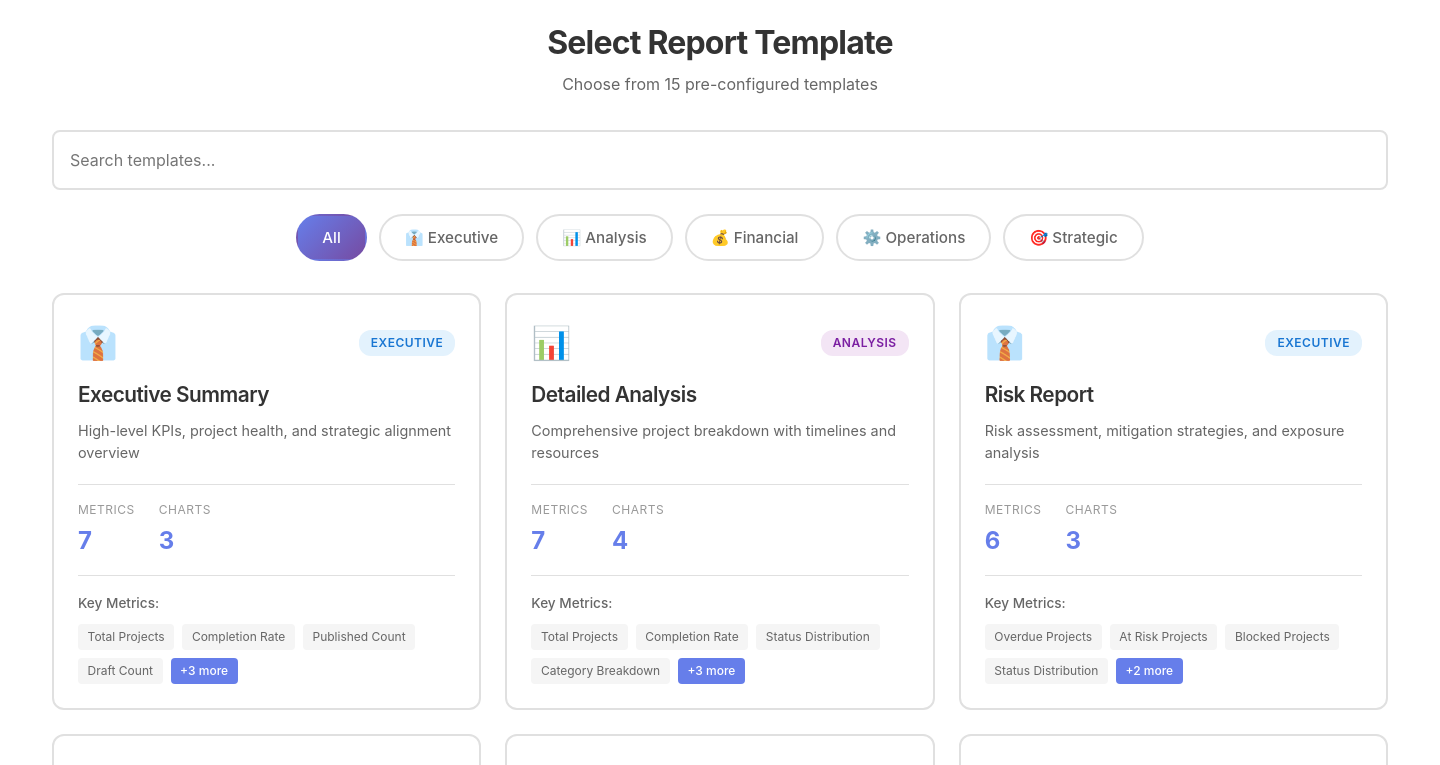
it: TemplateSelector › Category Filtering › should show all templates when All button clicked
Click the button "👔 Executive".
click(451, 238)  # box [379, 214, 524, 261]
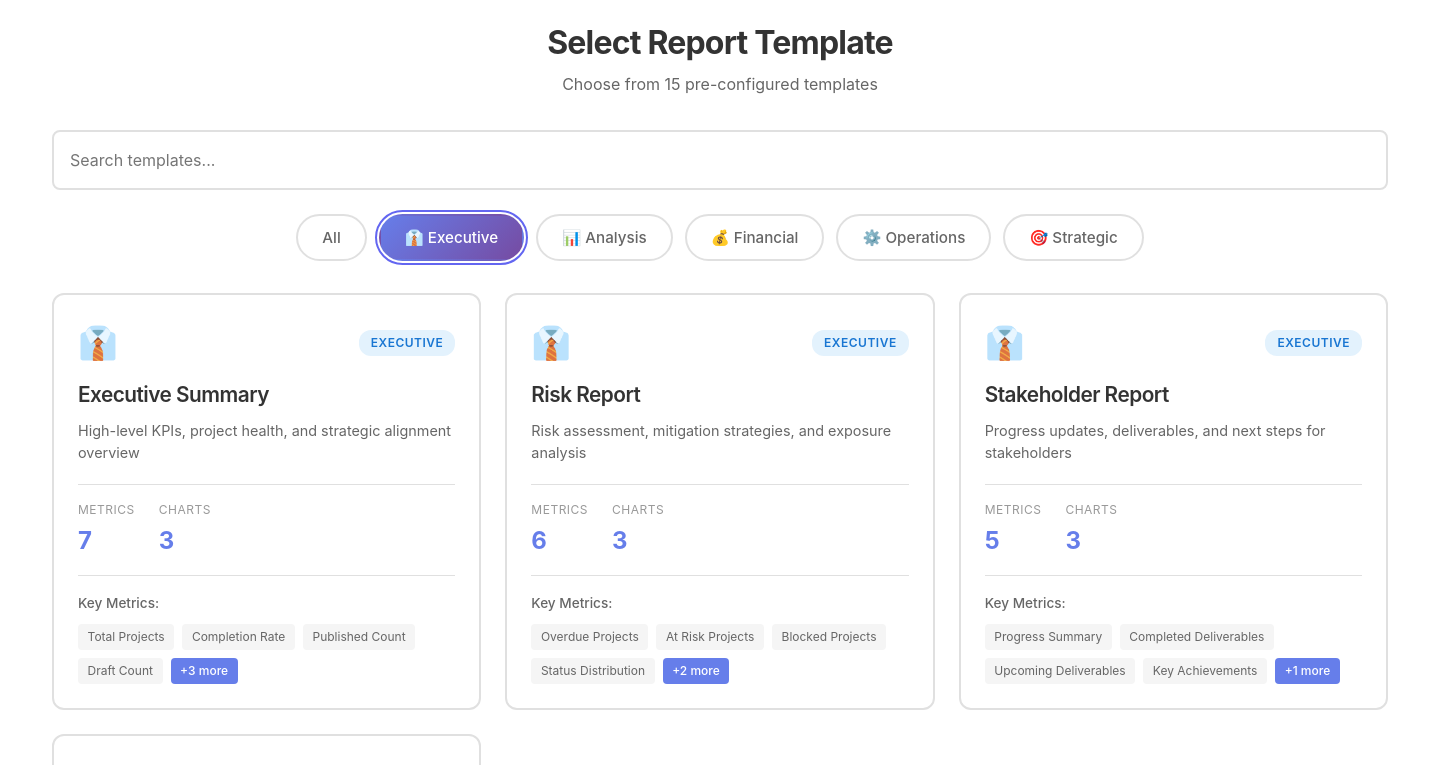
Click the button "All".
click(332, 238)  # box [296, 214, 367, 261]
(page scrolled)
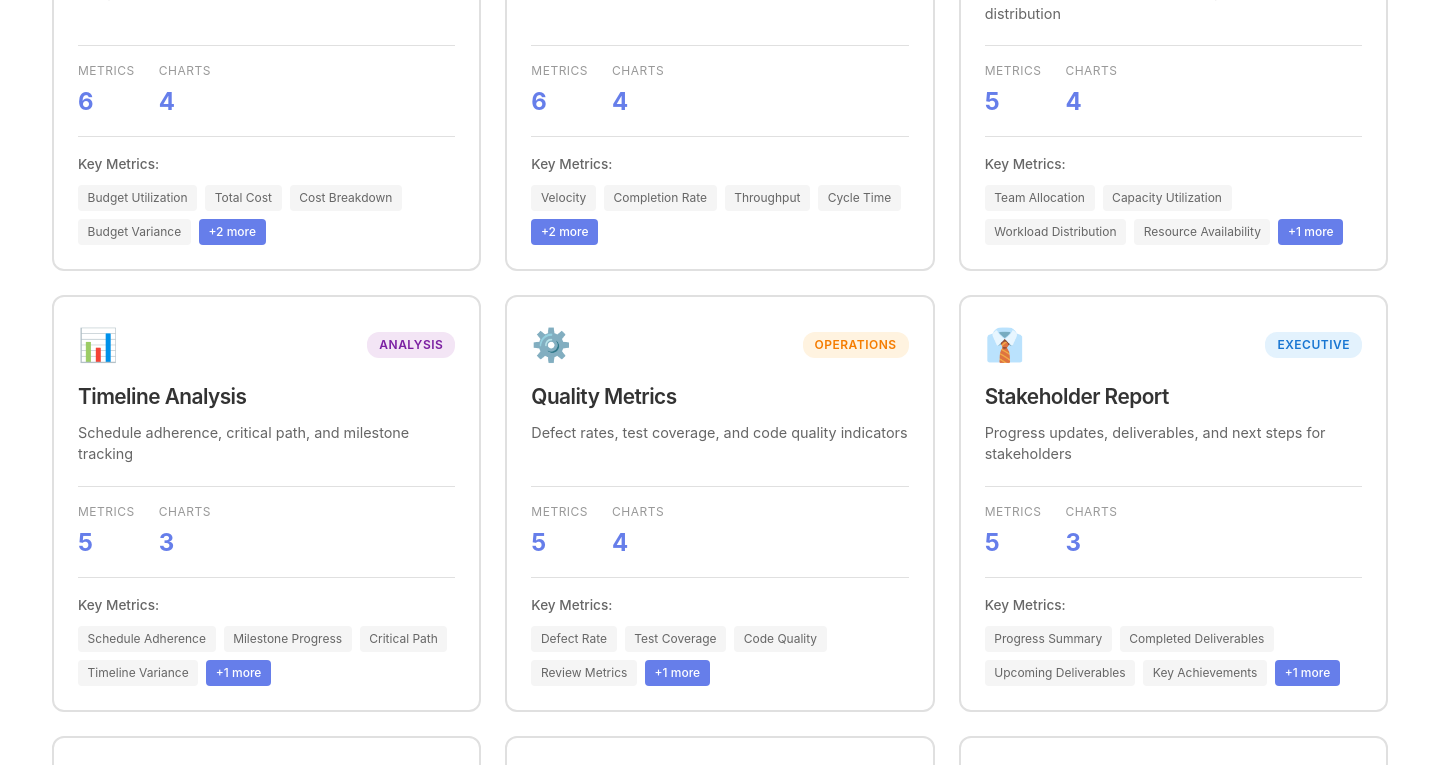
expect the heading "Quality Metrics" is shown: met, box [531, 384, 677, 409]
